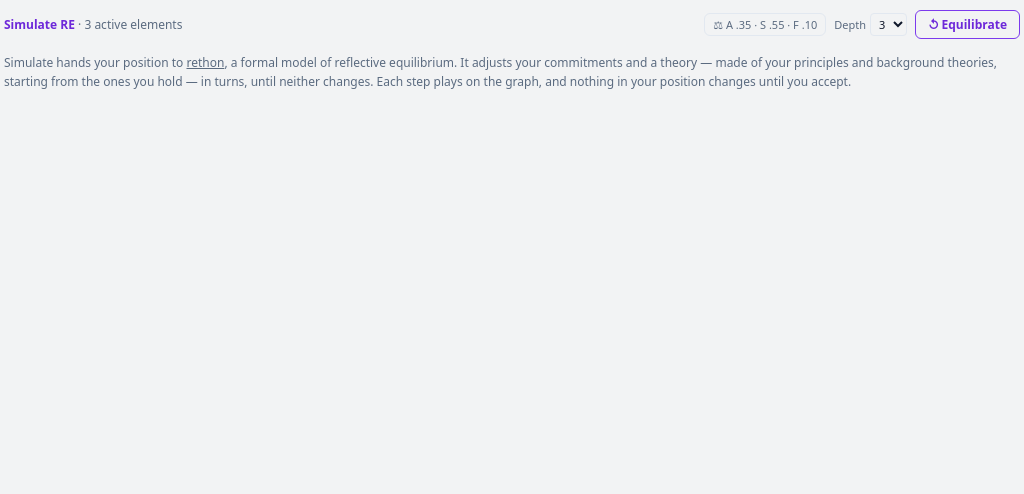
Test: a result › offers nothing to accept when nothing would change
Click the button "↺ Equilibrate" at (968, 24), box [915,10,1020,39]
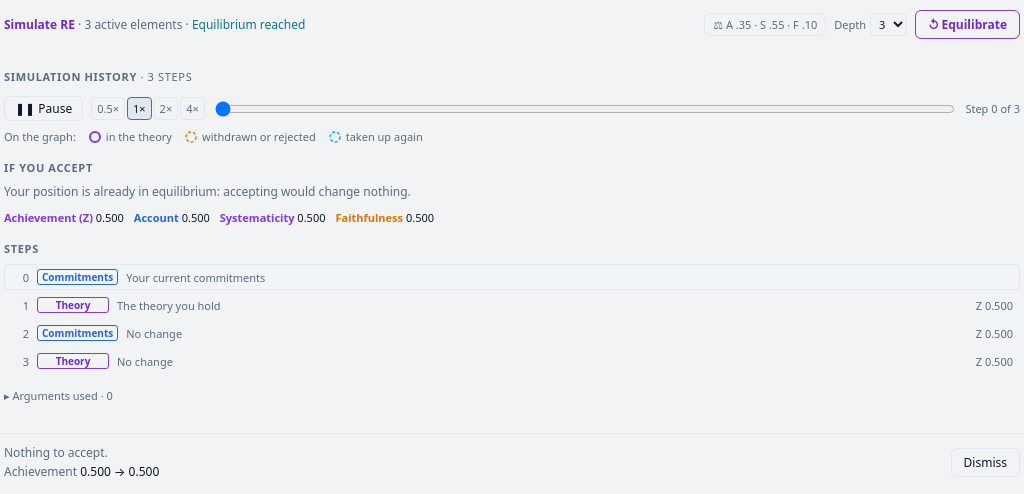
expect the text "already in equilibrium" is shown: met, box [4,183,411,200]
Click the button "Dismiss" at (985, 462), box [951,448,1020,476]
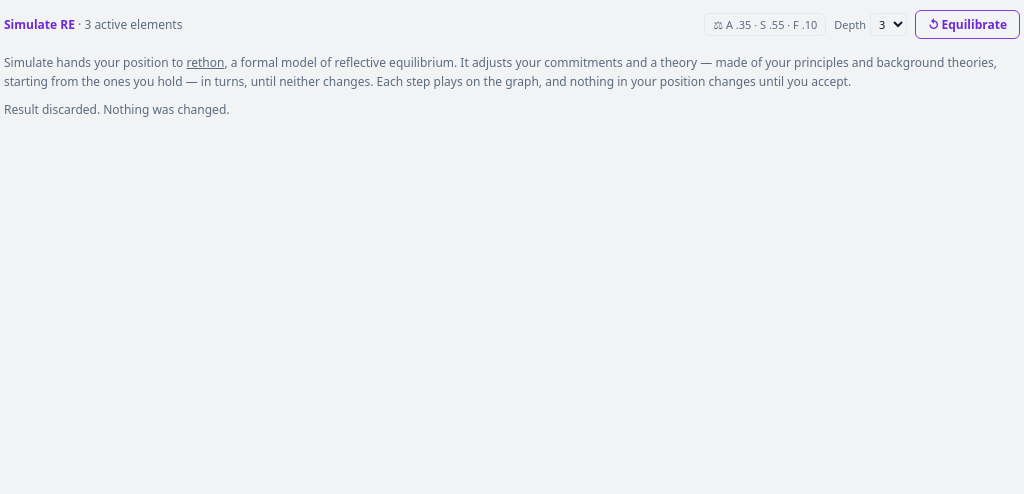
expect the text "If you accept" is gone: met
